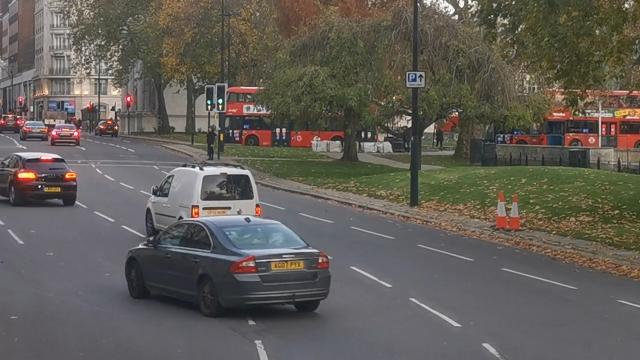bus: (221, 80, 378, 151)
car: (128, 221, 330, 319), (2, 152, 81, 208), (50, 123, 84, 147), (19, 118, 49, 141), (95, 119, 119, 138), (0, 114, 23, 133)
van: (144, 162, 264, 229)
